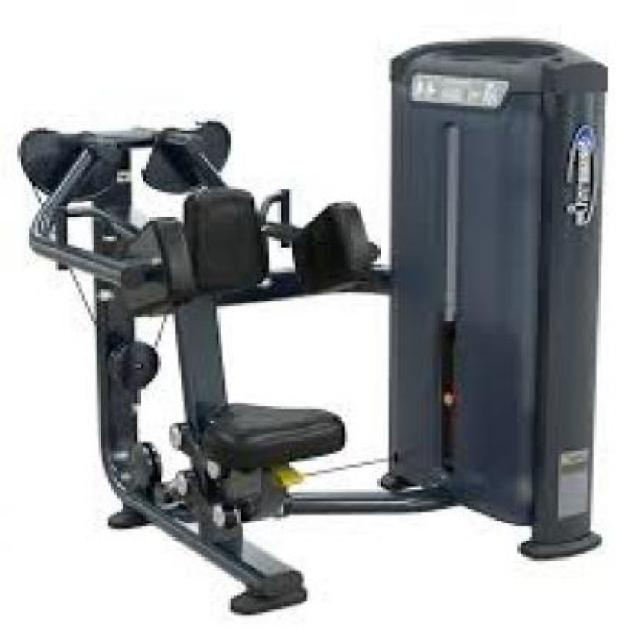lateral raises machine: (16, 120, 384, 615)
